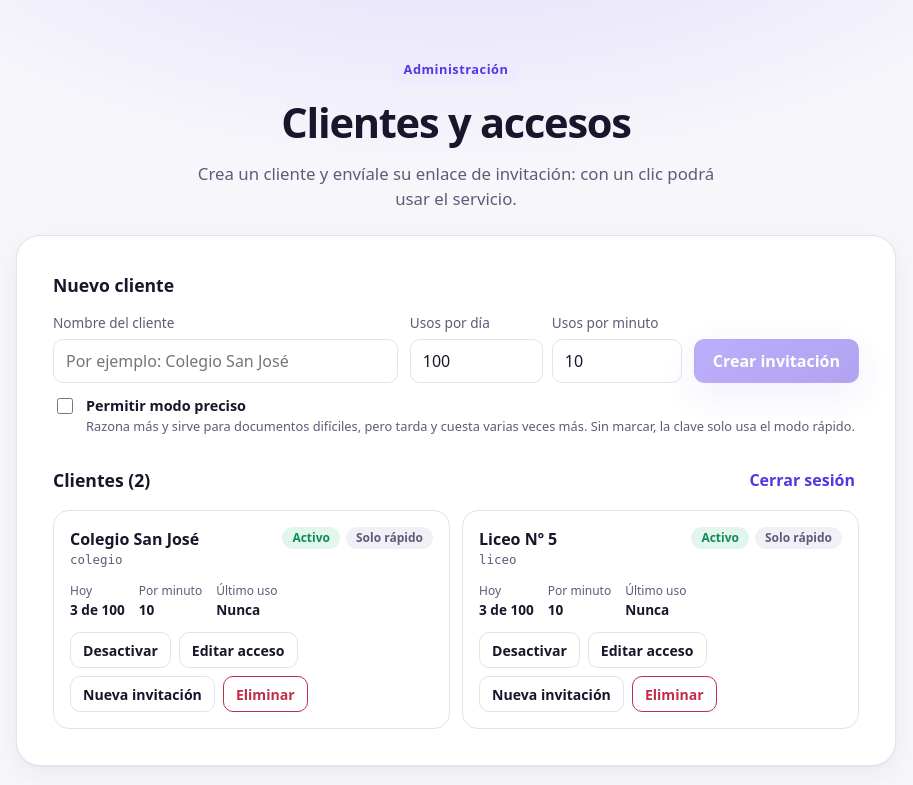
AdminApp › deletes a client after confirmation and removes it from the list
Click the button "Eliminar" below "Colegio San José" at (265, 694), box [223,676,308,712]
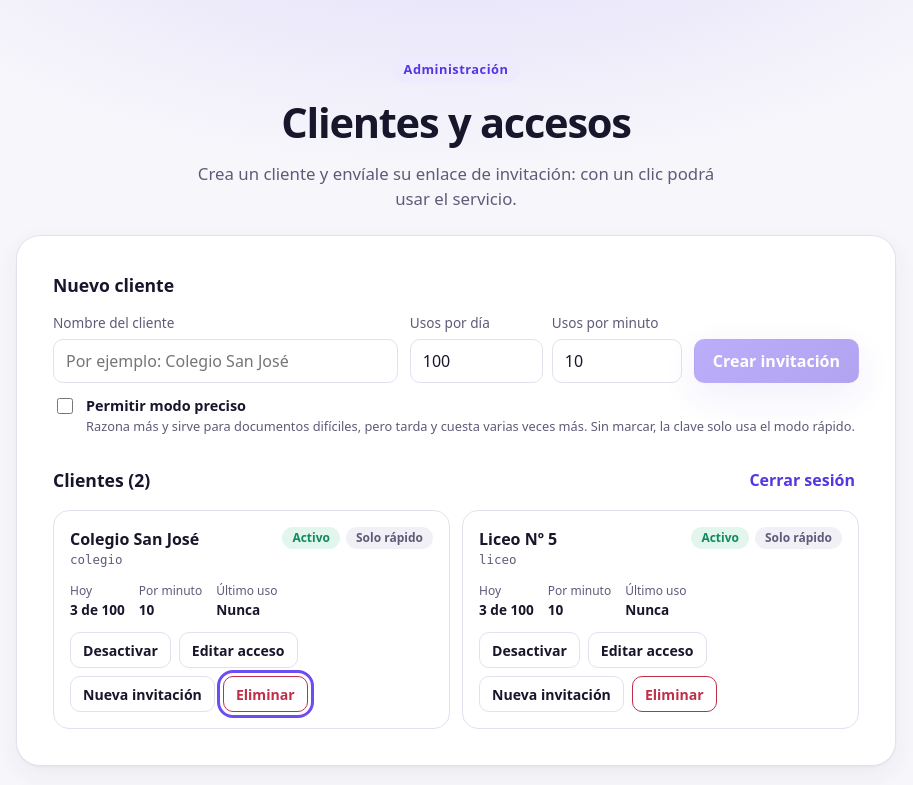
Click the button "Eliminar" below "Colegio San José" at (265, 694), box [223,676,308,712]
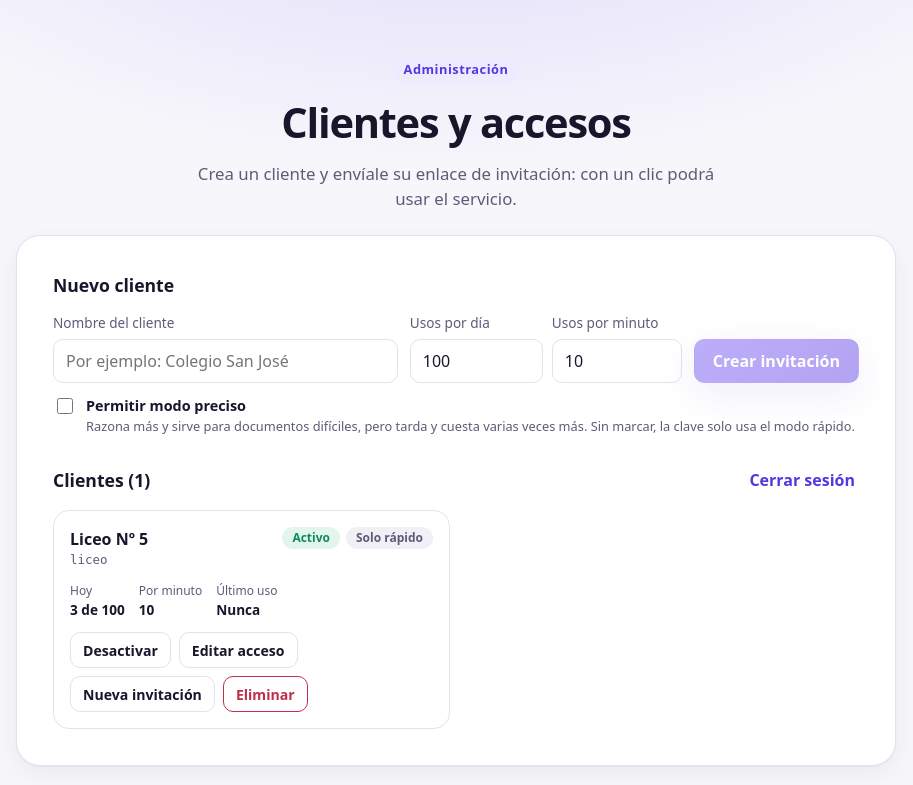
Expected: the text "Liceo Nº 5" is shown, [70,528,148,550]
Now the heading "Clientes (1)" is shown, box [53,467,150,493]
